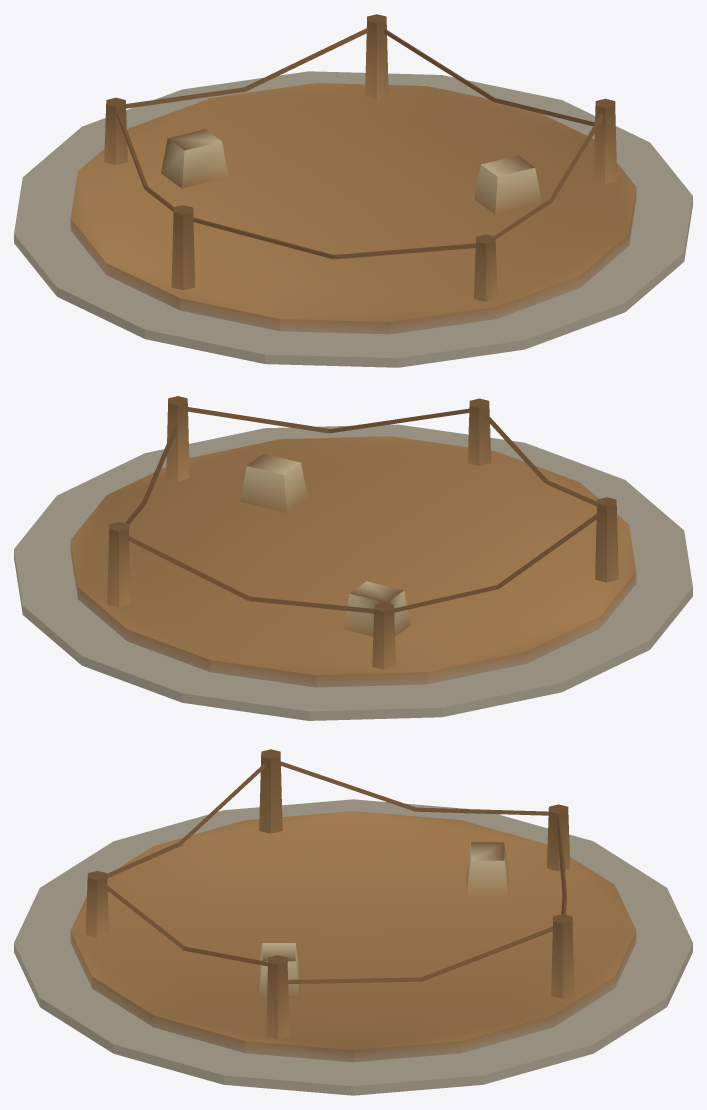
The model's file is dock_0.glb.
The picture shows the model from 3 angles, top to bottom: view 1: azimuth 30°, elevation 25°; view 2: azimuth 150°, elevation 25°; view 3: azimuth 270°, elevation 25°; orthographic projection.
Visible parts, largest first — view 1: dock_0; view 2: dock_0; view 3: dock_0.
Boxes of the visible parts, <box> form: dock_0: <box>14,14,692,367</box>; dock_0: <box>14,396,692,720</box>; dock_0: <box>14,749,692,1095</box>.
Bounding box in the file's own units: 4.56 × 0.71 × 4.56.
